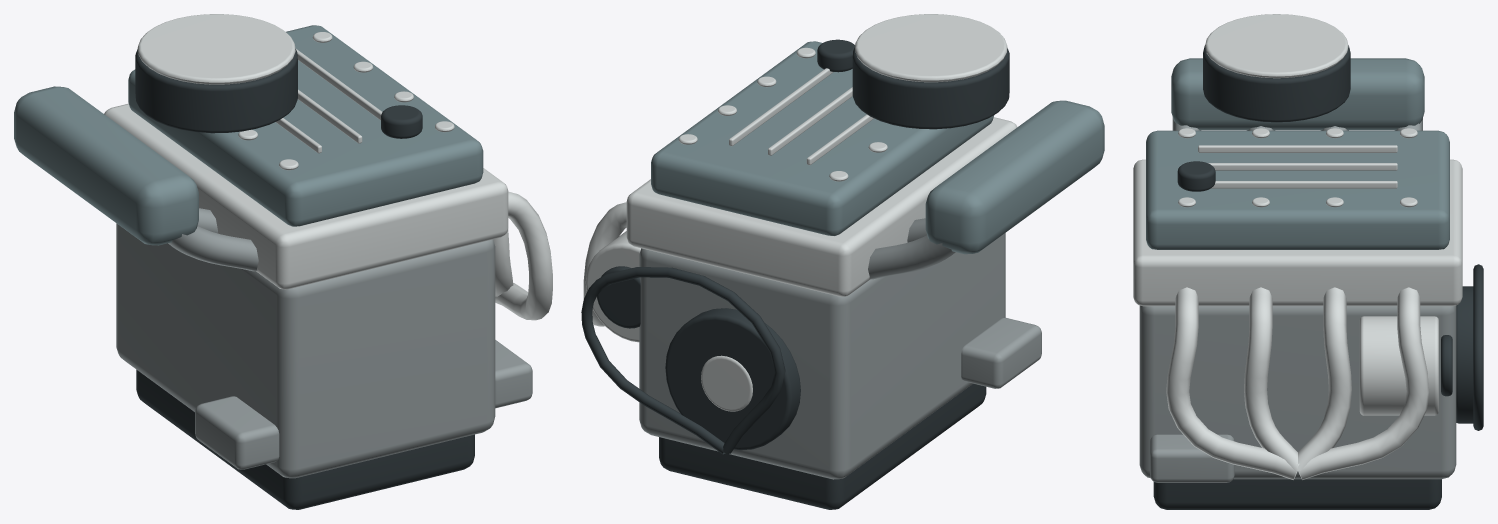
The model's file is engine_stock.fbx.
The picture shows the model from 3 angles, left to right: view 1: azimuth 30°, elevation 25°; view 2: azimuth 150°, elevation 25°; view 3: azimuth 270°, elevation 25°; orthographic projection. The views are drawn at different scales.
Parts seen in each view (by area): view 1: engine_stock; view 2: engine_stock; view 3: engine_stock.
Part boxes in pixels (x1=…): engine_stock: x1=14, y1=14, x2=552, y2=509; engine_stock: x1=581, y1=14, x2=1104, y2=509; engine_stock: x1=1133, y1=14, x2=1483, y2=509.
Size of the model in its own units: 86.4 by 80.3 by 66.4.
